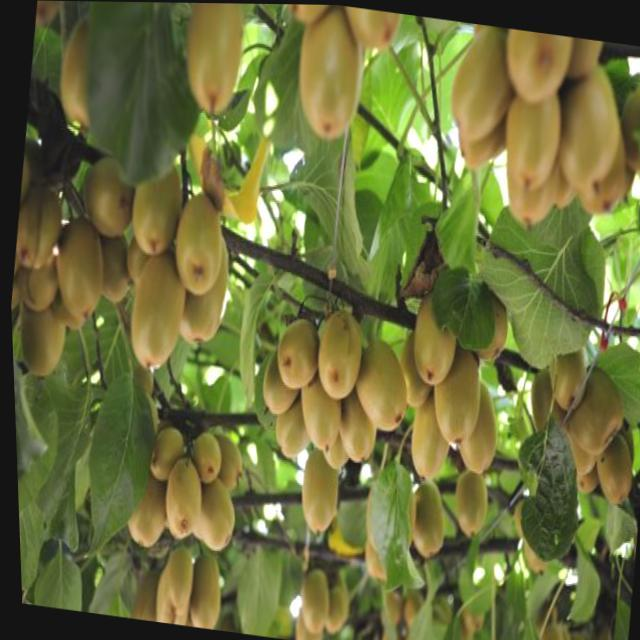kiwi: (286, 5, 373, 145), (548, 50, 629, 191), (443, 20, 521, 137), (161, 222, 234, 344), (120, 244, 188, 374), (175, 3, 250, 120), (496, 76, 567, 192), (421, 327, 486, 449), (164, 186, 227, 298), (124, 147, 187, 258), (559, 357, 628, 458), (46, 217, 109, 321), (498, 27, 576, 110), (444, 370, 501, 475), (11, 168, 67, 273), (403, 285, 461, 385), (10, 281, 69, 379), (348, 336, 410, 429), (289, 355, 346, 454), (321, 372, 381, 465), (402, 379, 455, 484), (537, 311, 593, 410), (308, 306, 364, 402), (290, 434, 342, 537), (76, 150, 138, 236), (267, 374, 317, 460), (184, 473, 236, 554), (586, 421, 636, 505), (399, 475, 448, 559), (145, 543, 195, 625), (157, 454, 204, 540), (269, 314, 320, 391), (181, 552, 222, 629), (447, 467, 489, 540), (292, 565, 329, 632), (202, 432, 244, 488), (183, 427, 221, 481)
